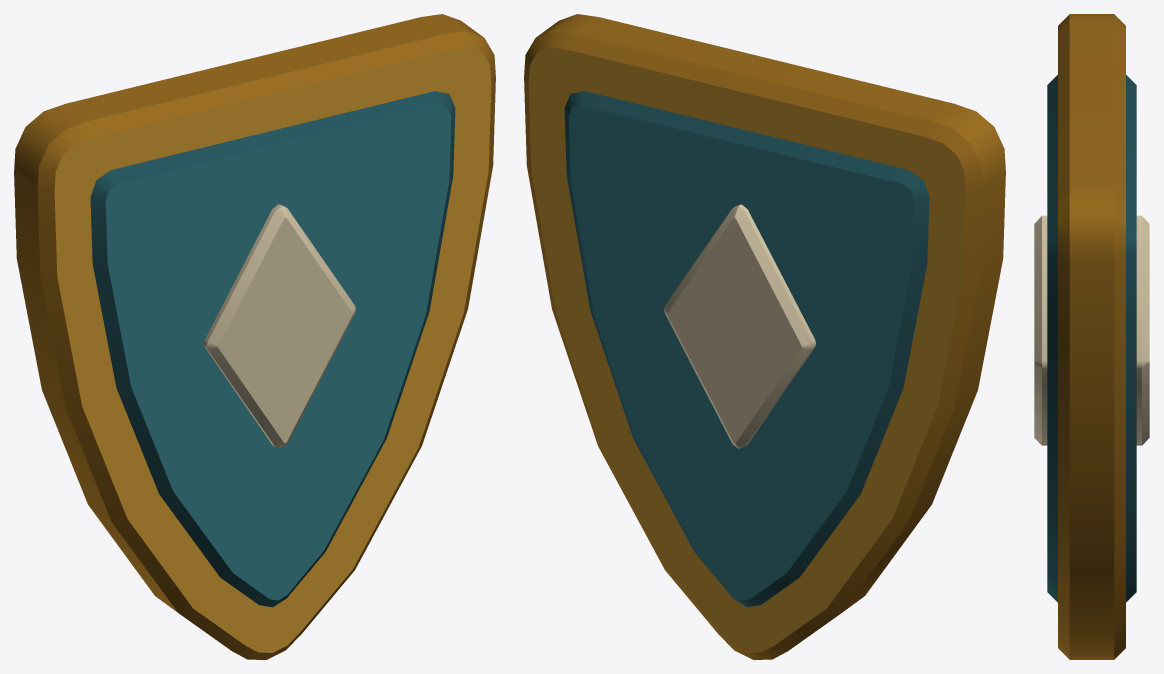
The model's file is Badge_12.glb.
The picture shows the model from 3 angles, left to right: view 1: azimuth 30°, elevation 25°; view 2: azimuth 150°, elevation 25°; view 3: azimuth 270°, elevation 25°; orthographic projection. The views are drawn at different scales.
Visible parts, largest first — view 1: Badge_12; view 2: Badge_12; view 3: Badge_12.
Part boxes in pixels (<box>): Badge_12: <box>14,14,495,659</box>; Badge_12: <box>524,14,1005,659</box>; Badge_12: <box>1034,14,1149,659</box>.
Size of the model in its own units: 1.91 by 2.32 by 0.44.
